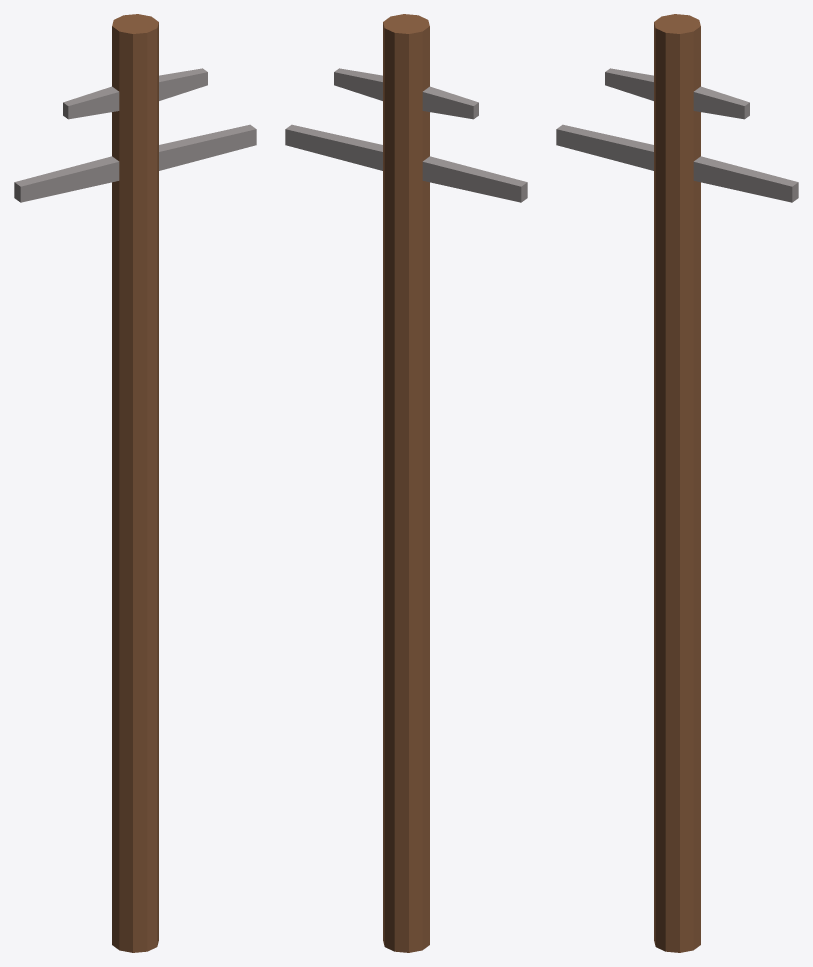
Rendered from Pole.fbx.
The picture shows the model from 3 angles, left to right: view 1: azimuth 30°, elevation 25°; view 2: azimuth 150°, elevation 25°; view 3: azimuth 330°, elevation 25°; orthographic projection.
Visible parts, largest first — view 1: Pole; view 2: Pole; view 3: Pole.
Part boxes in pixels (x1,y1,x2,y2): Pole: (14,14,256,952); Pole: (285,14,527,952); Pole: (556,14,798,952).
Bounding box in the file's own units: 201 × 749 × 35.31.
